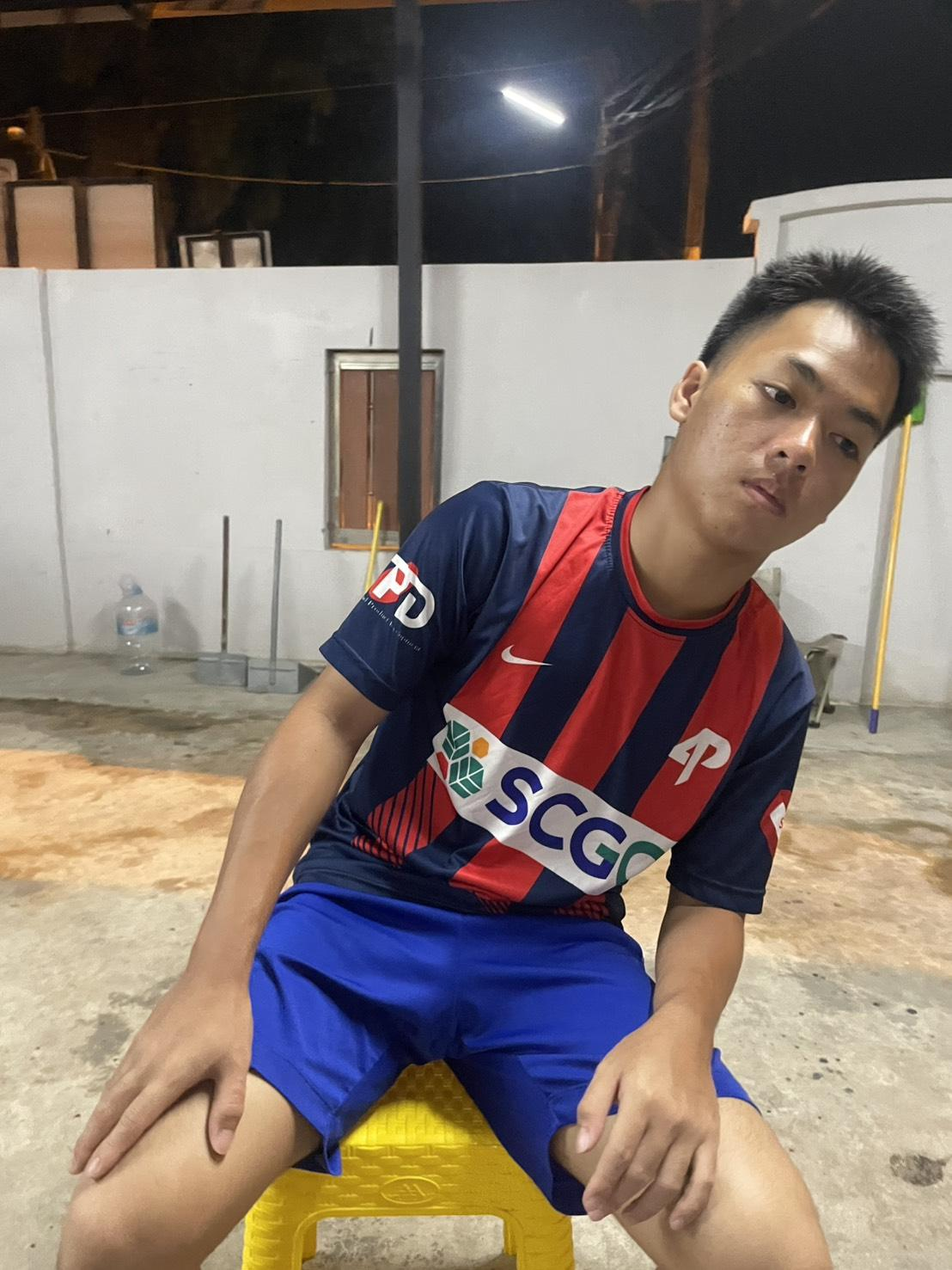BadPosture: (209, 251, 935, 1269), (322, 253, 906, 923)
